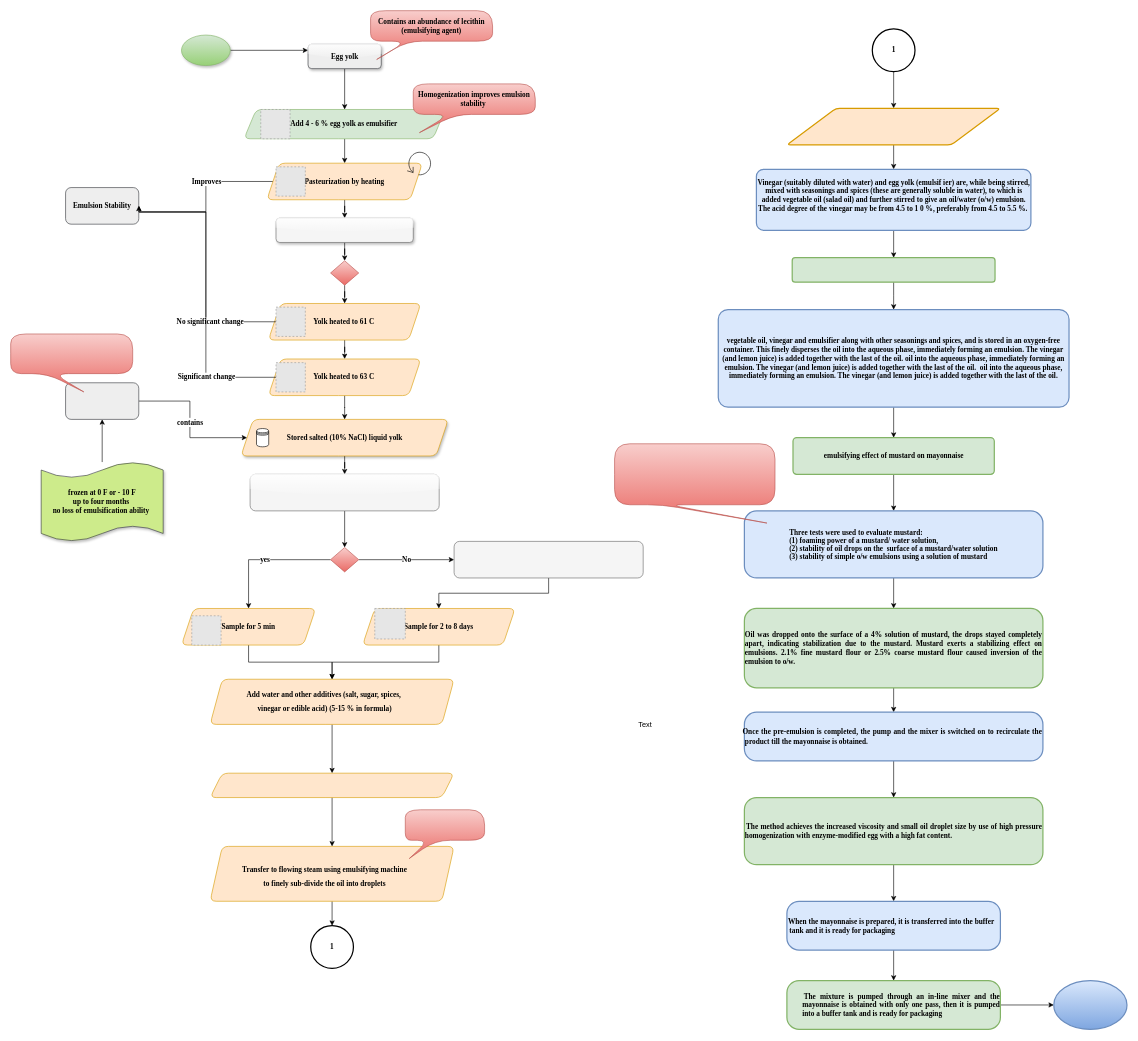
Image size: 1138x1041. Some labels were removed from this diagram. Grey dashed boxes stand in for pictures. Here are the shapes that lost their labels. From the top down, the centre of each, then its label:
At point 206,51: "Start".
At point 893,126: "Smaller droplets larger interfacial and higher internal pressure".
At point 345,231: "fresh yolk containing 48 to 49% solids".
At point 893,269: "Salt influence the rate of oxidation of the oil add taste also".
At point 71,362: "Produce much stiffer mayonnaise".
At point 102,400: "Frozen yolk".
At point 344,492: "If high temperature ( 62 C to 78 C)".
At point 694,483: "emulsion stability increased as the mustard level increased up to 4%.".
At point 548,559: "low temperature ( 52 C <)".
At point 331,785: "Oil is dispersed (i.e. 20-100μm) in a pre-mix tank".
At point 445,834: "1-5μm in size".
At point 1090,1005: "Stop".
